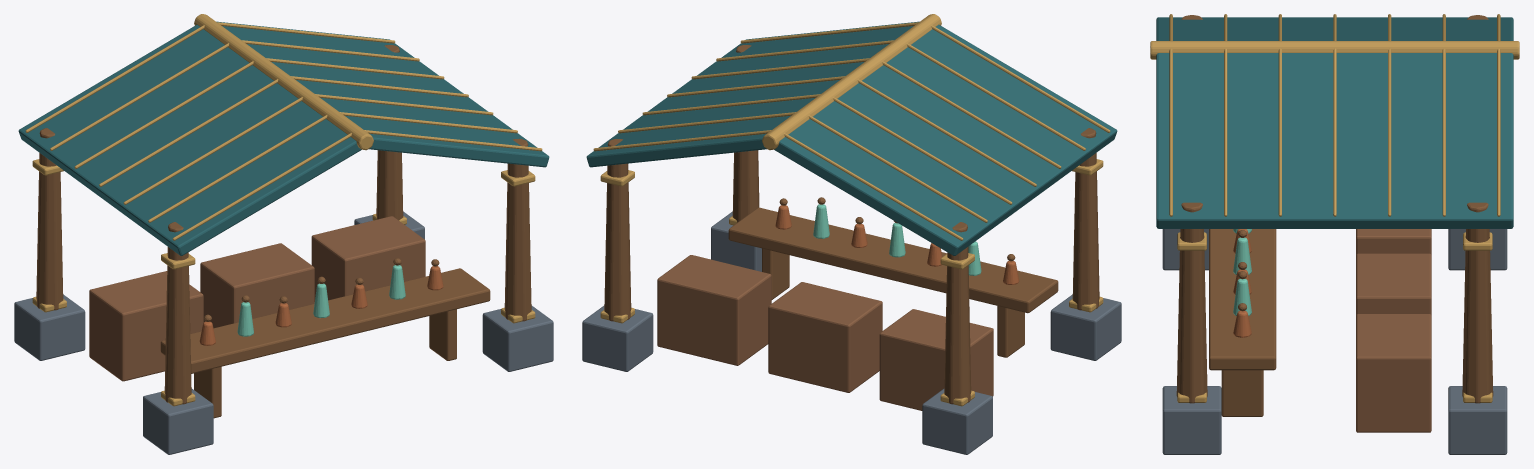
Rendered from castle_merchant.glb.
The picture shows the model from 3 angles, left to right: view 1: azimuth 30°, elevation 25°; view 2: azimuth 150°, elevation 25°; view 3: azimuth 270°, elevation 25°; orthographic projection. The views are drawn at different scales.
Visible parts, largest first — view 1: RoofPlane.003, CarvedPost.003, TradeChest.001, PostBand.003, StonePedestal.003, PotionBottle.003, PotionBottle.002; view 2: RoofPlane.003, TradeChest.001, CarvedPost.003, PostBand.003, StonePedestal.003, PotionBottle.003, PotionBottle.002; view 3: RoofPlane.003, CarvedPost.003, TradeChest.001, PostBand.003, StonePedestal.003, PotionBottle.003, PotionBottle.002.
Boxes of the visible parts, bbox=[...] form: RoofPlane.003: bbox=[18, 21, 549, 255]; CarvedPost.003: bbox=[36, 45, 531, 418]; TradeChest.001: bbox=[89, 216, 425, 381]; PostBand.003: bbox=[25, 14, 542, 406]; StonePedestal.003: bbox=[14, 211, 553, 454]; PotionBottle.003: bbox=[237, 265, 405, 336]; PotionBottle.002: bbox=[199, 266, 443, 345]; RoofPlane.003: bbox=[586, 21, 1117, 255]; TradeChest.001: bbox=[657, 255, 993, 410]; CarvedPost.003: bbox=[604, 45, 1099, 404]; PostBand.003: bbox=[593, 14, 1110, 406]; StonePedestal.003: bbox=[582, 211, 1121, 454]; PotionBottle.003: bbox=[813, 204, 981, 275]; PotionBottle.002: bbox=[775, 205, 1019, 284]; RoofPlane.003: bbox=[1156, 17, 1513, 228]; CarvedPost.003: bbox=[1176, 15, 1493, 416]; TradeChest.001: bbox=[1356, 229, 1431, 432]; PostBand.003: bbox=[1150, 14, 1519, 402]; StonePedestal.003: bbox=[1162, 229, 1507, 454]; PotionBottle.003: bbox=[1233, 229, 1251, 315]; PotionBottle.002: bbox=[1233, 229, 1251, 337].
Bounding box in the file's own units: 5.9 × 4.06 × 4.4.
